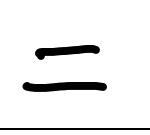eqv: (23, 45, 107, 92)
